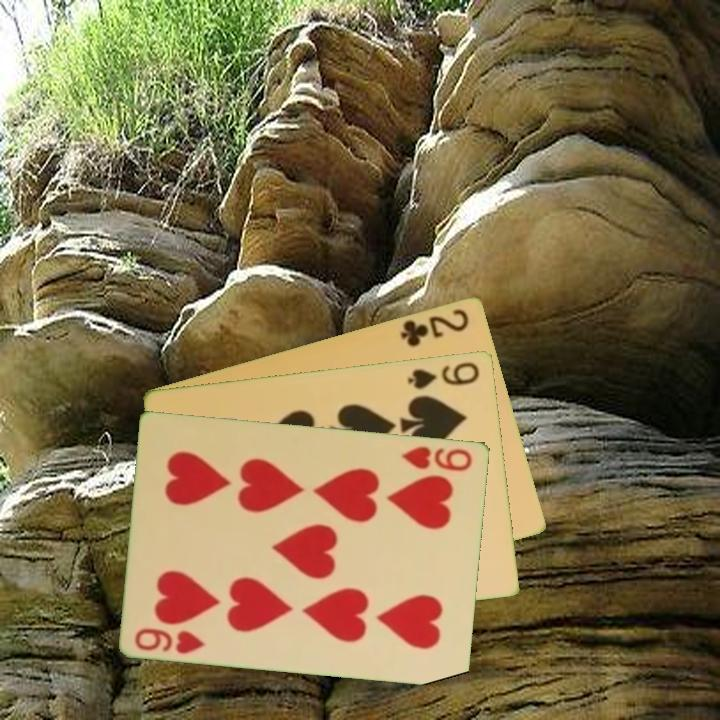2c: (397, 304, 472, 350)
9h: (131, 624, 208, 657), (398, 442, 476, 474)
9s: (404, 358, 483, 392)
